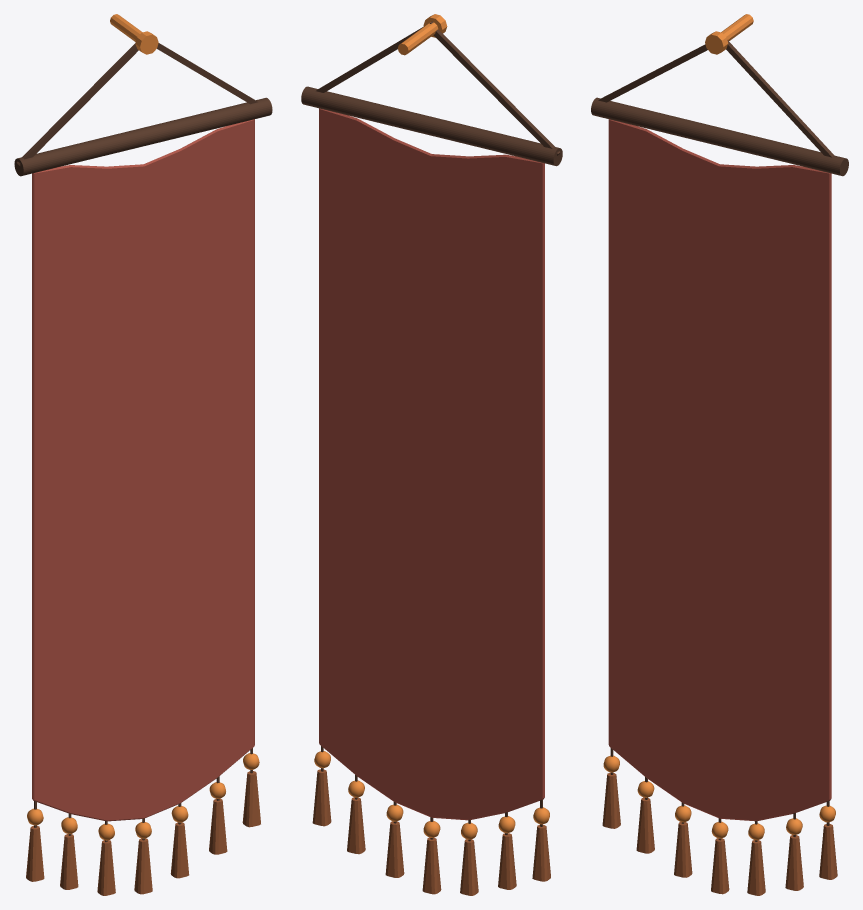
The model's file is fbx_Banner_01.fbx.
3 views of the same model, side by side, from view 1: azimuth 30°, elevation 25°; view 2: azimuth 150°, elevation 25°; view 3: azimuth 330°, elevation 25° (orthographic).
Parts seen in each view (by area): view 1: Cylinder.021; view 2: Cylinder.021; view 3: Cylinder.021.
Part boxes in pixels (x1=…): Cylinder.021: x1=14, y1=14, x2=272, y2=895; Cylinder.021: x1=301, y1=14, x2=562, y2=895; Cylinder.021: x1=591, y1=14, x2=848, y2=895.
Size of the model in its own units: 102 by 335 by 24.16.
